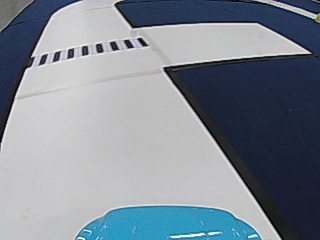CrossWalk: (33, 36, 144, 64)
